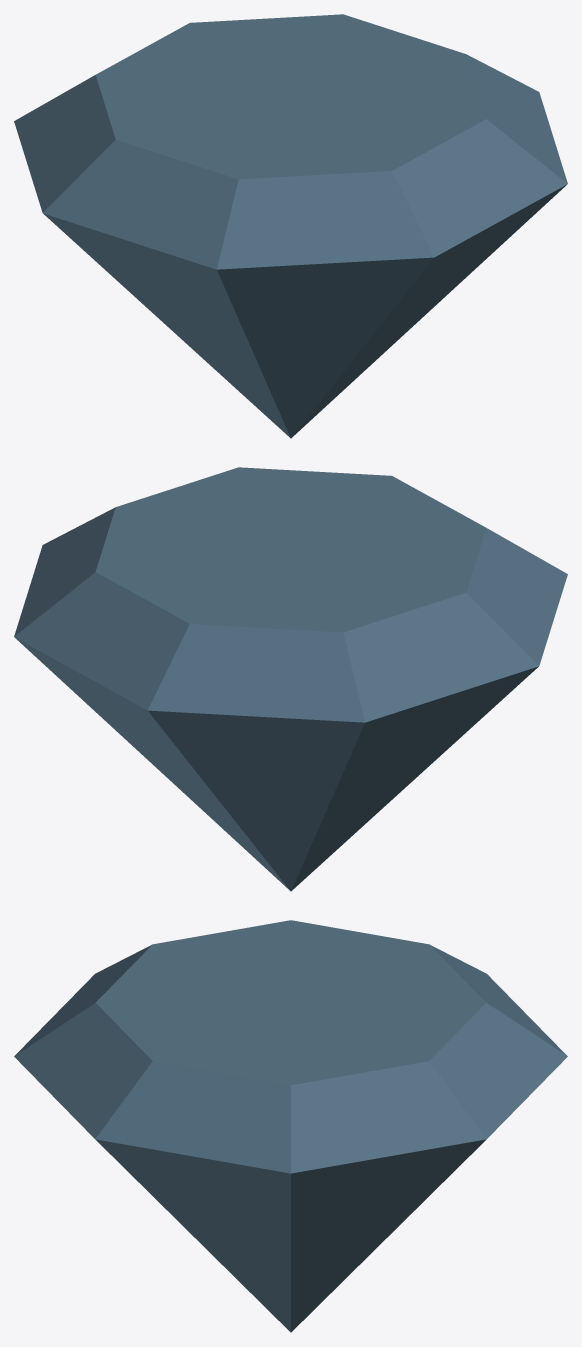
File: Diamond.fbx
3 renders of one model, top to bottom at view 1: azimuth 30°, elevation 25°; view 2: azimuth 150°, elevation 25°; view 3: azimuth 270°, elevation 25°, orthographic. The views are drawn at different scales.
Visible parts, largest first — view 1: Diamond; view 2: Diamond; view 3: Diamond.
Boxes of the visible parts, x1,y1,x2,y2 form: Diamond: [14, 14, 567, 438]; Diamond: [14, 467, 567, 891]; Diamond: [14, 920, 567, 1332].
Size of the model in its own units: 8.34 by 5.49 by 8.34.
